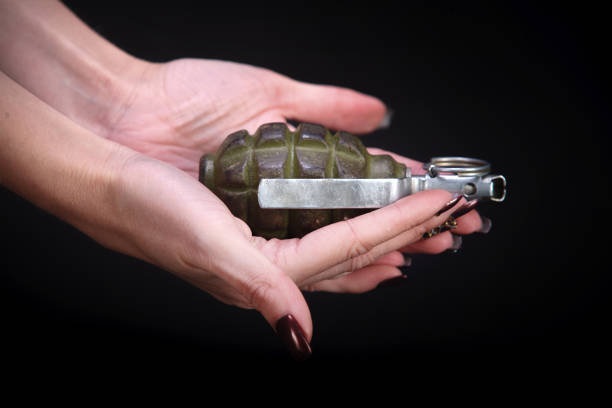e1: (199, 121, 508, 239)
